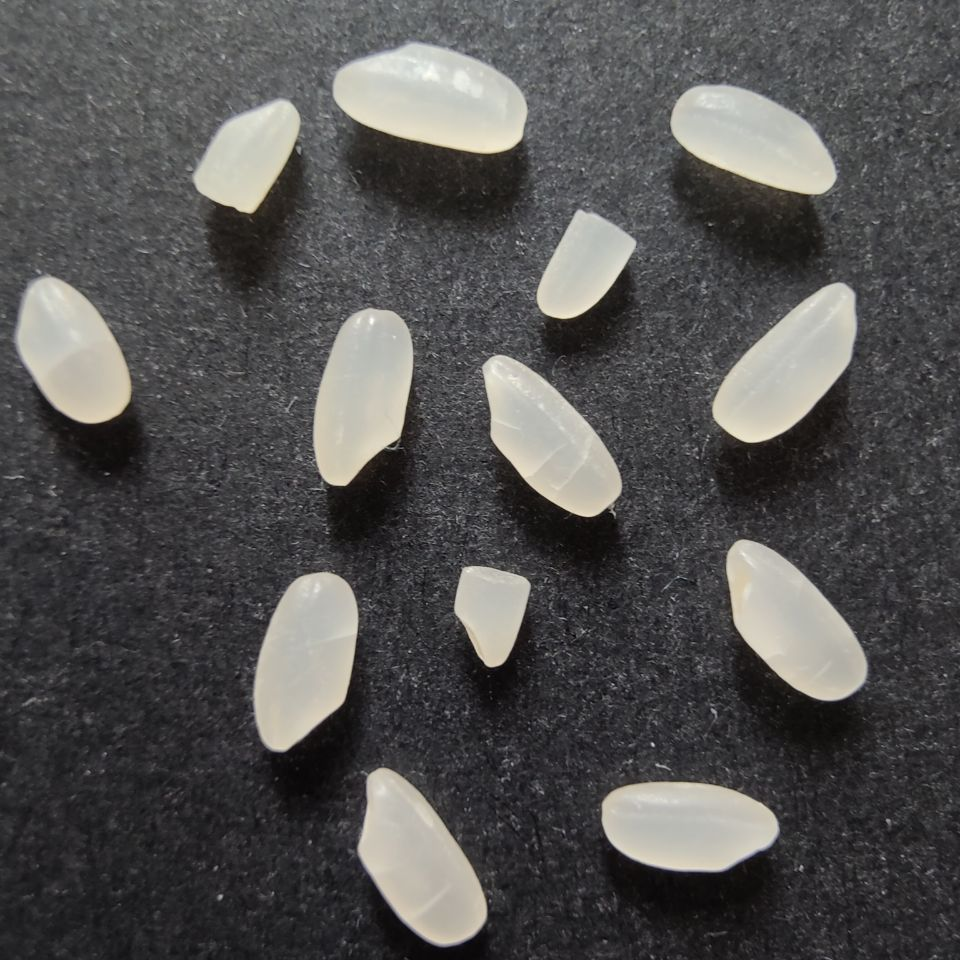broken: (188, 94, 305, 214), (536, 205, 639, 320), (449, 561, 535, 670)
rice: (708, 280, 863, 446), (721, 535, 872, 703), (476, 351, 625, 520), (355, 766, 491, 947), (325, 40, 530, 157), (248, 569, 359, 756), (308, 305, 422, 487), (8, 274, 138, 428), (667, 81, 839, 197), (596, 779, 783, 875)
